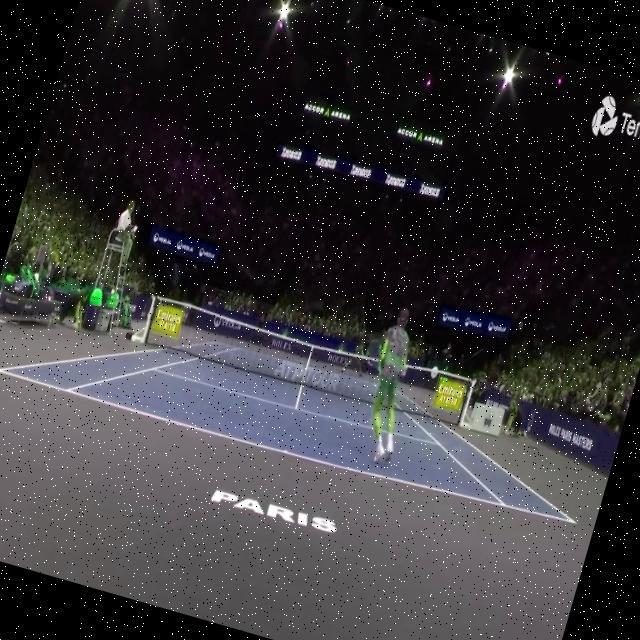court: (0, 279, 599, 537)
net: (140, 286, 477, 432)
player: (344, 298, 434, 468)
